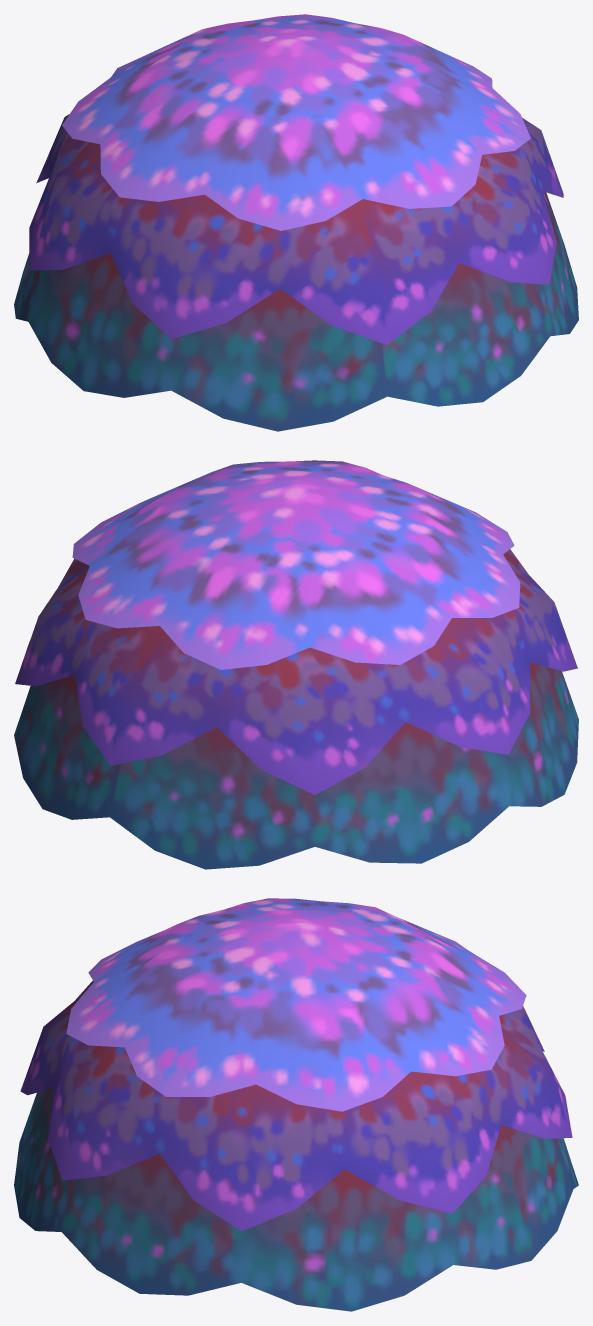
The model's file is Bush2.fbx.
3 renders of one model, top to bottom at view 1: azimuth 30°, elevation 25°; view 2: azimuth 150°, elevation 25°; view 3: azimuth 270°, elevation 25°, orthographic.
Parts seen in each view (by area): view 1: Bush2; view 2: Bush2; view 3: Bush2.
Boxes of the visible parts, box(x1,y1,x2,y2) form: Bush2: box(14, 14, 578, 431); Bush2: box(14, 460, 578, 869); Bush2: box(14, 898, 578, 1311).
Bounding box in the file's own units: 106 × 55.85 × 106.
